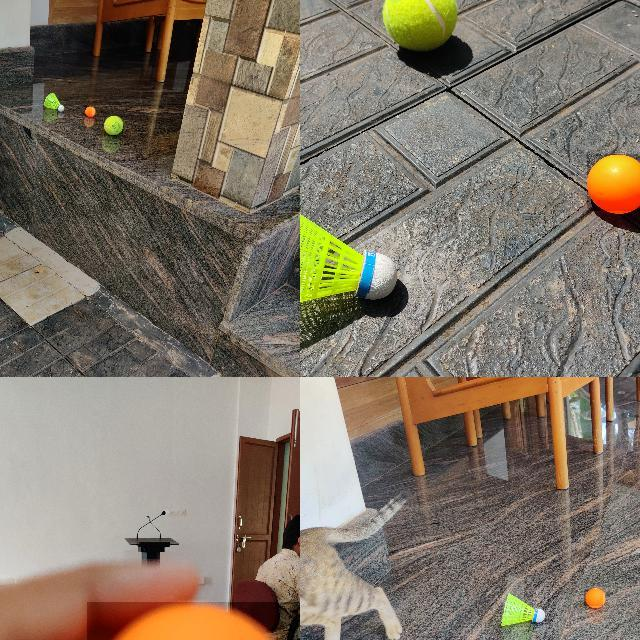ping-pong-ball: (586, 153, 639, 213), (584, 588, 604, 608), (85, 106, 94, 118)
